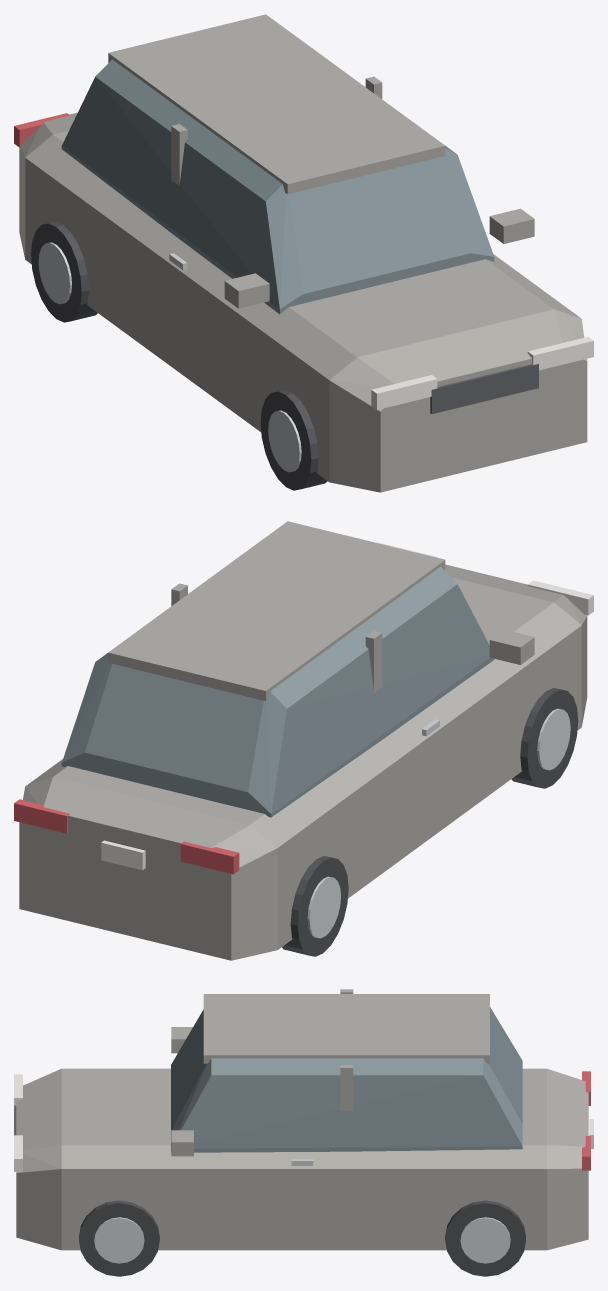
File: rav4-2014.glb
3 renders of one model, top to bottom at view 1: azimuth 30°, elevation 25°; view 2: azimuth 150°, elevation 25°; view 3: azimuth 270°, elevation 25°, orthographic. The views are drawn at different scales.
Parts seen in each view (by area): view 1: body, cabin_glass, roof, wheel_-1_1_tire, wheel_-1_-1_tire, grille, wheel_-1_-1_rim, wheel_-1_1_rim, headlight_-1, headlight_1, mirror_-1, mirror_1 (+1 smaller); view 2: body, cabin_glass, roof, wheel_-1_1_tire, wheel_-1_-1_tire, wheel_-1_1_rim, wheel_-1_-1_rim, taillight_-1, mirror_-1, taillight_1, rear_plate, pillar_-1 (+1 smaller); view 3: body, cabin_glass, roof, wheel_1_-1_tire, wheel_1_1_tire, wheel_1_1_rim, wheel_1_-1_rim, pillar_1, mirror_1, mirror_-1.
Part boxes in pixels (bbox=[...]): body: bbox=[19, 112, 587, 492]; cabin_glass: bbox=[61, 59, 494, 314]; roof: bbox=[108, 14, 445, 194]; wheel_-1_1_tire: bbox=[260, 390, 327, 490]; wheel_-1_-1_tire: bbox=[31, 221, 97, 322]; grille: bbox=[430, 364, 538, 413]; wheel_-1_-1_rim: bbox=[38, 242, 71, 304]; wheel_-1_1_rim: bbox=[268, 410, 301, 472]; headlight_-1: bbox=[371, 375, 437, 409]; headlight_1: bbox=[527, 336, 593, 370]; mirror_-1: bbox=[224, 273, 269, 308]; mirror_1: bbox=[489, 208, 534, 243]; body: bbox=[19, 564, 587, 960]; cabin_glass: bbox=[61, 567, 494, 817]; roof: bbox=[108, 521, 445, 701]; wheel_-1_1_tire: bbox=[511, 688, 578, 788]; wheel_-1_-1_tire: bbox=[282, 856, 348, 956]; wheel_-1_1_rim: bbox=[537, 708, 570, 770]; wheel_-1_-1_rim: bbox=[307, 876, 340, 938]; taillight_-1: bbox=[180, 841, 239, 874]; mirror_-1: bbox=[489, 629, 534, 664]; taillight_1: bbox=[14, 799, 69, 833]; rear_plate: bbox=[101, 840, 145, 870]; pillar_-1: bbox=[365, 631, 382, 692]; body: bbox=[16, 1068, 588, 1250]; cabin_glass: bbox=[171, 1007, 522, 1152]; roof: bbox=[203, 994, 489, 1063]; wheel_1_-1_tire: bbox=[445, 1200, 525, 1276]; wheel_1_1_tire: bbox=[79, 1200, 159, 1276]; wheel_1_1_rim: bbox=[94, 1217, 144, 1263]; wheel_1_-1_rim: bbox=[460, 1217, 510, 1263]; pillar_1: bbox=[340, 1065, 353, 1111]; mirror_1: bbox=[171, 1130, 193, 1156]; mirror_-1: bbox=[171, 1027, 192, 1053].
Bounding box in the file's own units: 2.29 × 1.85 × 4.87.
